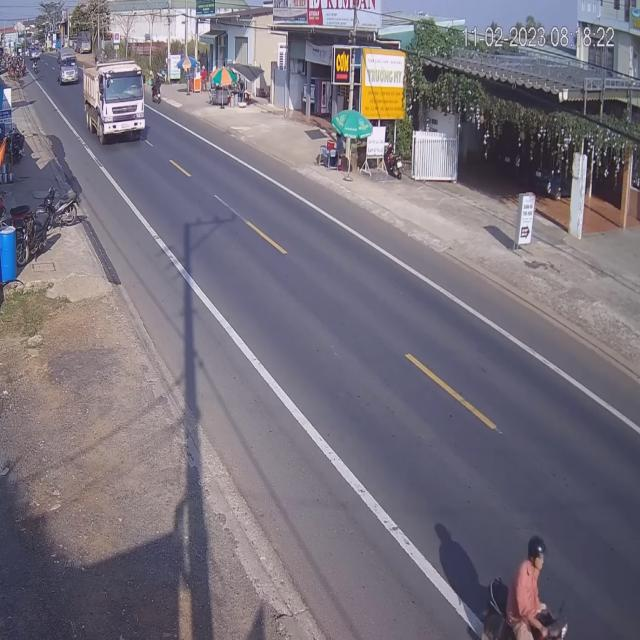bus: (57, 49, 80, 87)
motorbike: (481, 530, 570, 638), (150, 72, 162, 103)
truck: (84, 58, 147, 142)
